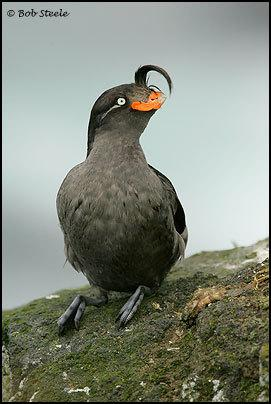005.Crested_Auklet: (53, 63, 188, 338)
